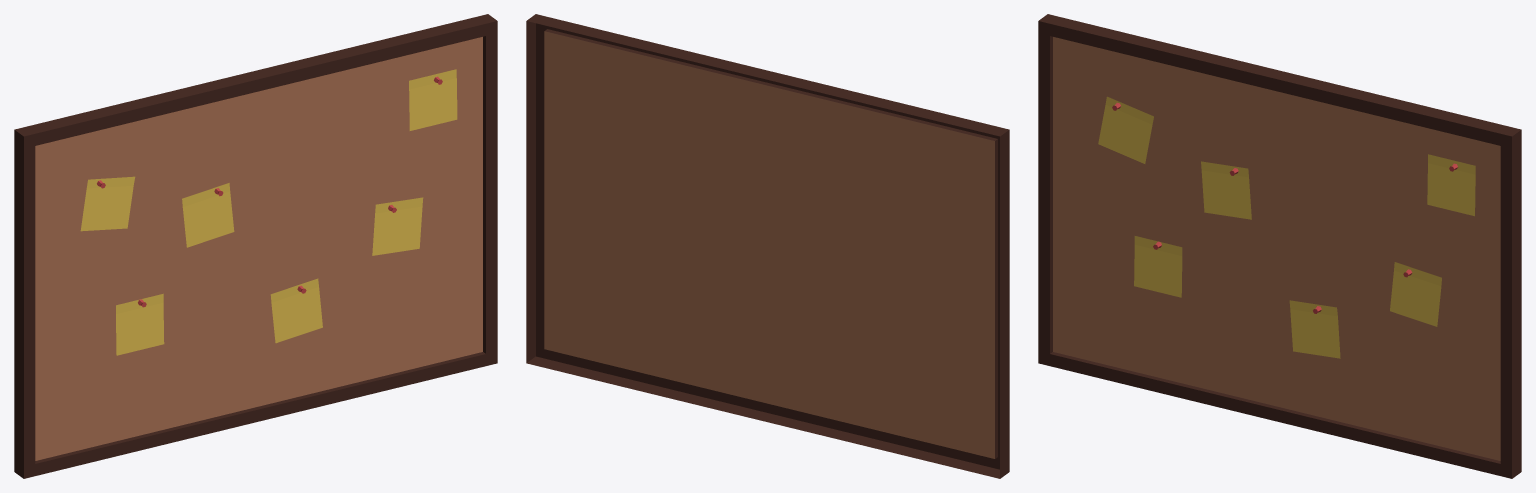
Rendered from Sticky Notes Board.fbx.
3 renders of one model, left to right at view 1: azimuth 30°, elevation 25°; view 2: azimuth 150°, elevation 25°; view 3: azimuth 330°, elevation 25°, orthographic.
Parts seen in each view (by area): view 1: Sticky Notes Board; view 2: Sticky Notes Board; view 3: Sticky Notes Board.
Boxes of the visible parts, x1,y1,x2,y2 form: Sticky Notes Board: [14, 14, 497, 478]; Sticky Notes Board: [526, 14, 1009, 478]; Sticky Notes Board: [1038, 14, 1521, 478].
Bounding box in the file's own units: 153 × 105 × 6.13.
